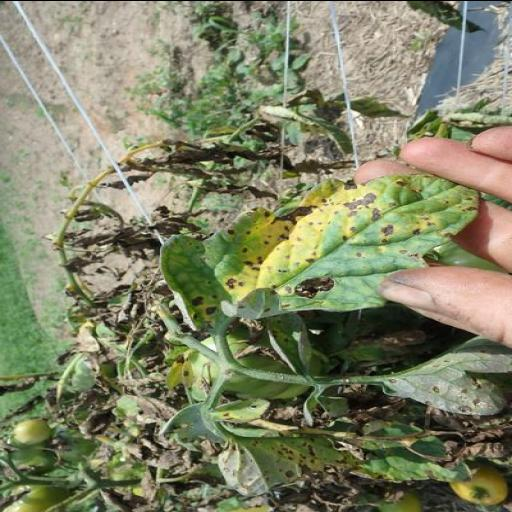Septoria: (154, 171, 482, 327), (382, 335, 512, 415), (213, 424, 365, 492)
